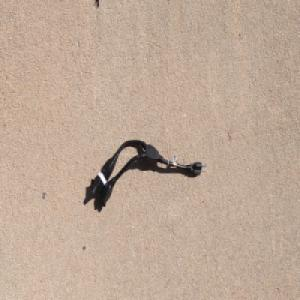Wire: (88, 138, 207, 207)
